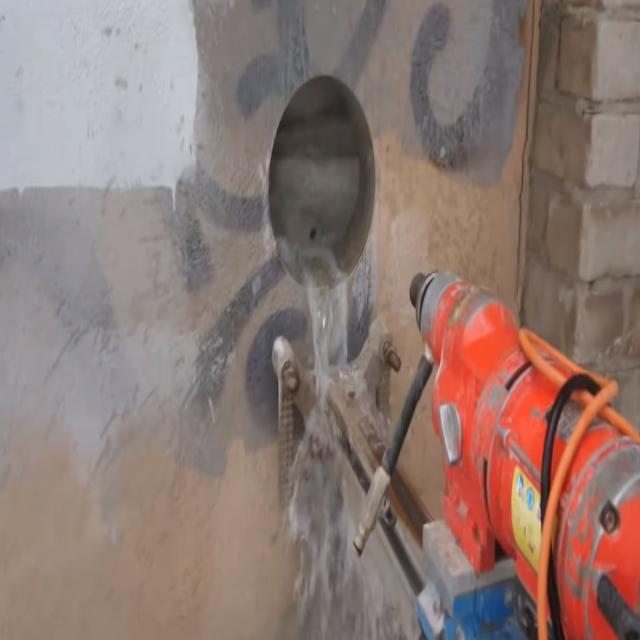leak: (285, 250, 419, 638)
